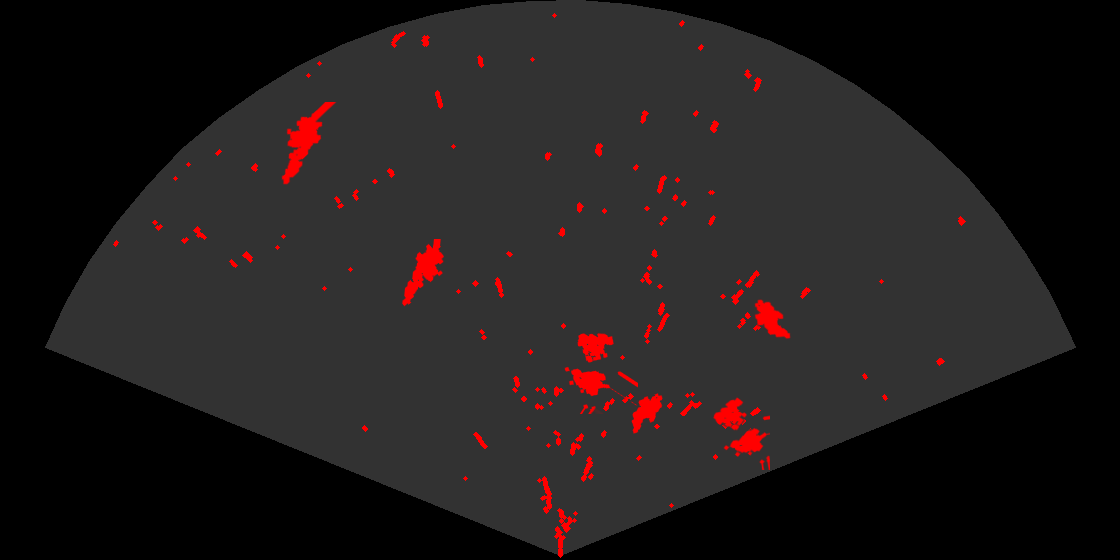AUV: (753, 298, 792, 341), (630, 392, 664, 435)
cage: (563, 331, 638, 414), (712, 396, 770, 470)
frogman: (280, 102, 338, 186), (401, 239, 445, 308)
